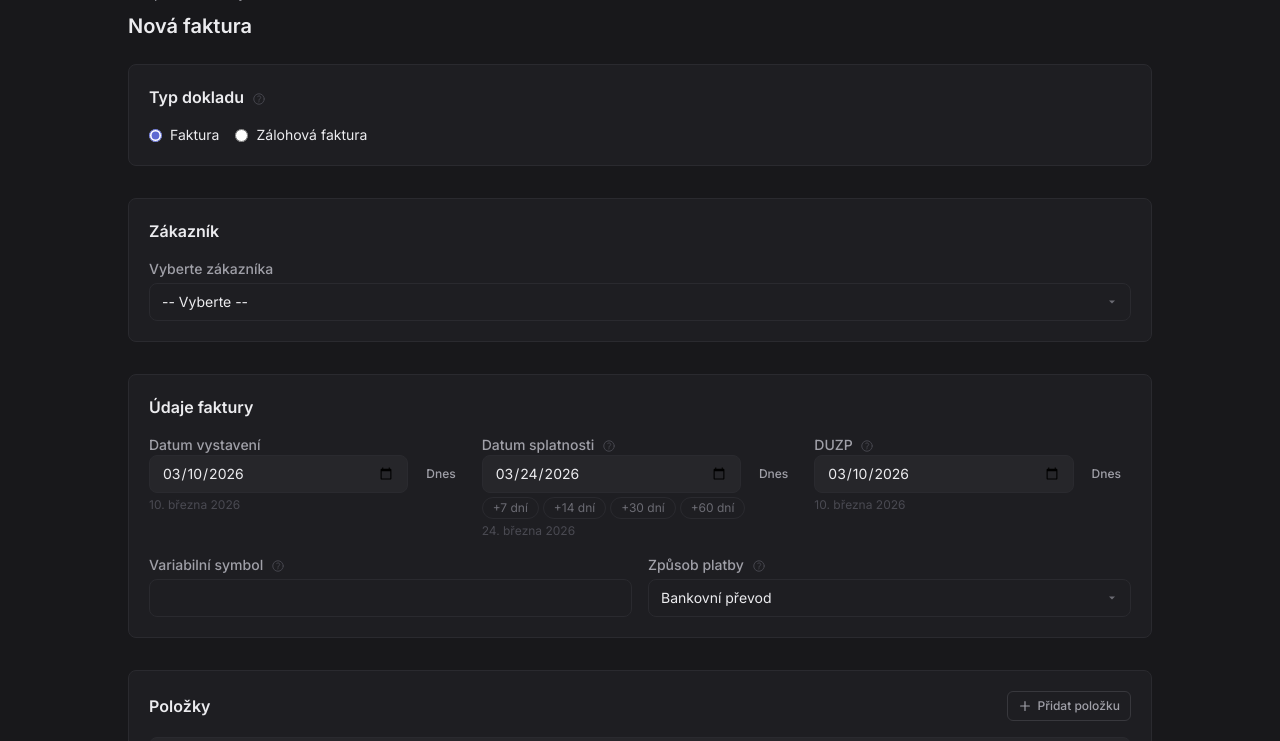
Test: Invoice Create › removes a line item when remove button is clicked
Click the button "Přidat položku".
click(1069, 706)  # box [1006, 691, 1131, 721]
(page scrolled)
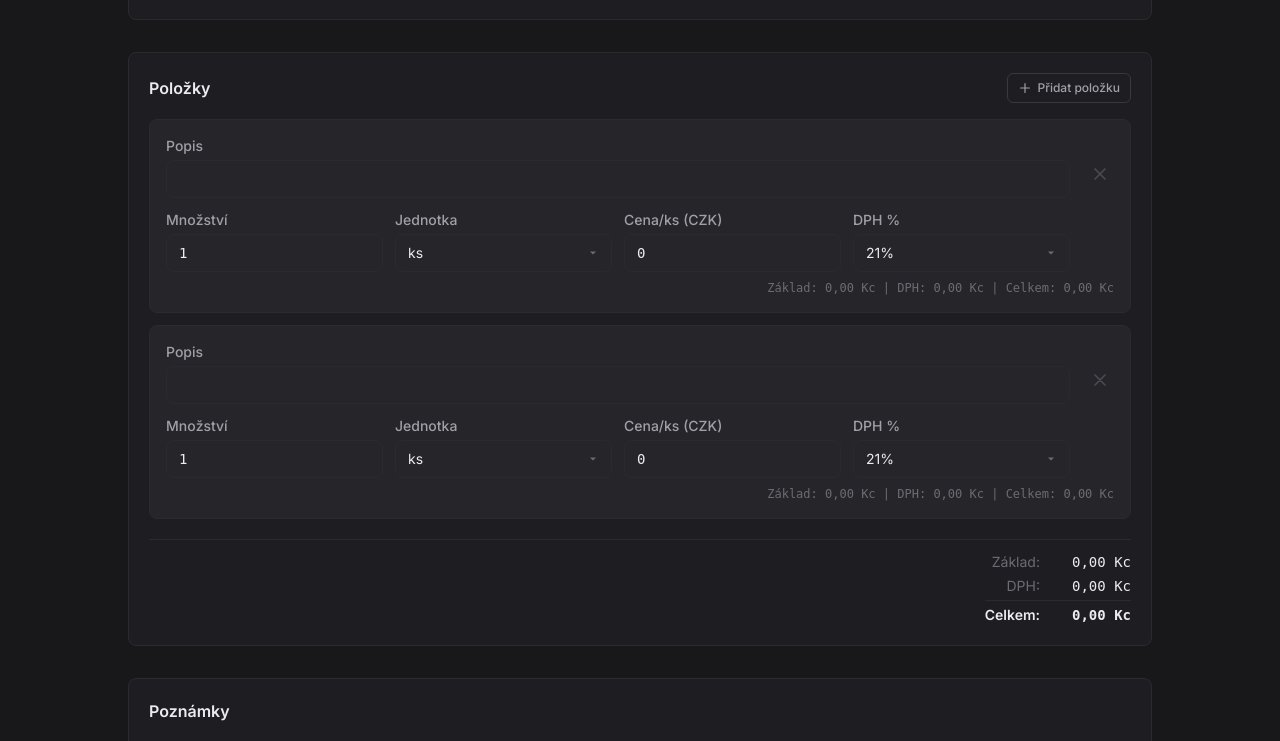
Click the 2nd button named "Odebrat položku".
click(1100, 380)  # box [1086, 366, 1114, 394]
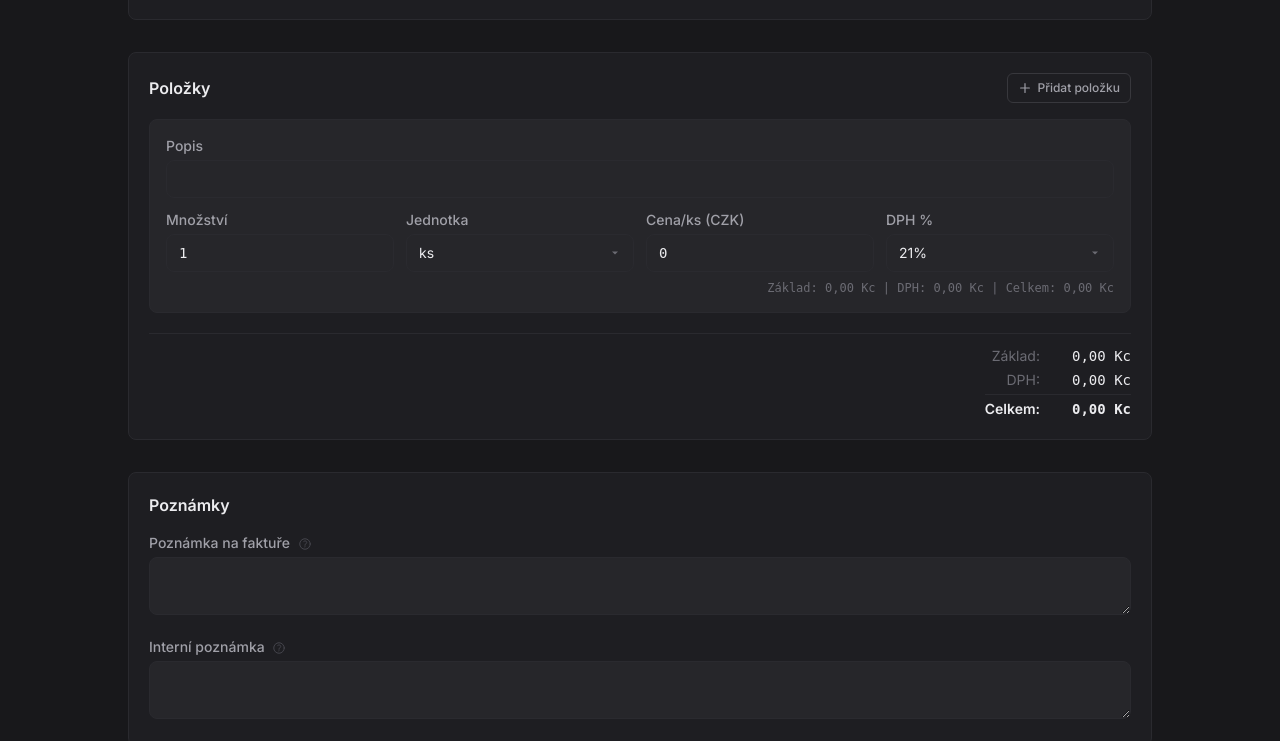
Now the label with id "desc-1" is gone
